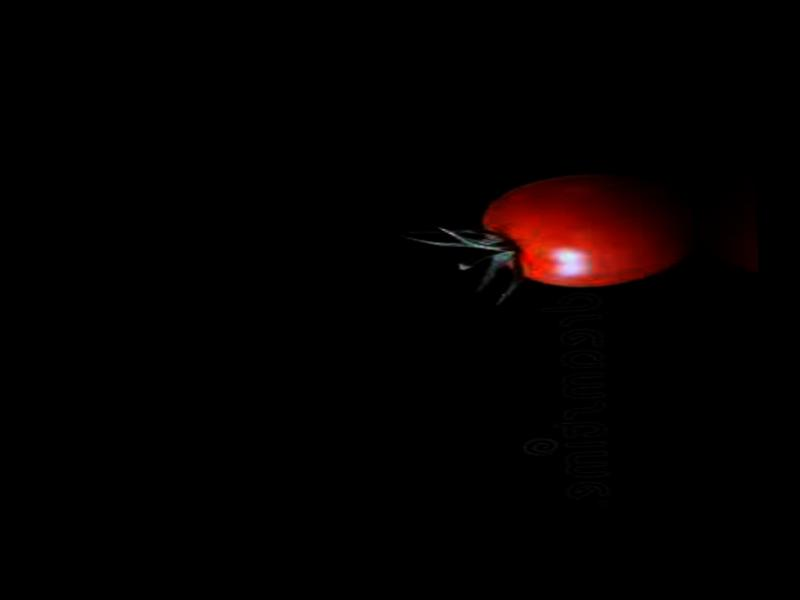Tomato: (478, 170, 695, 291)
